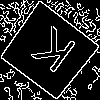K: (24, 25, 79, 82)
